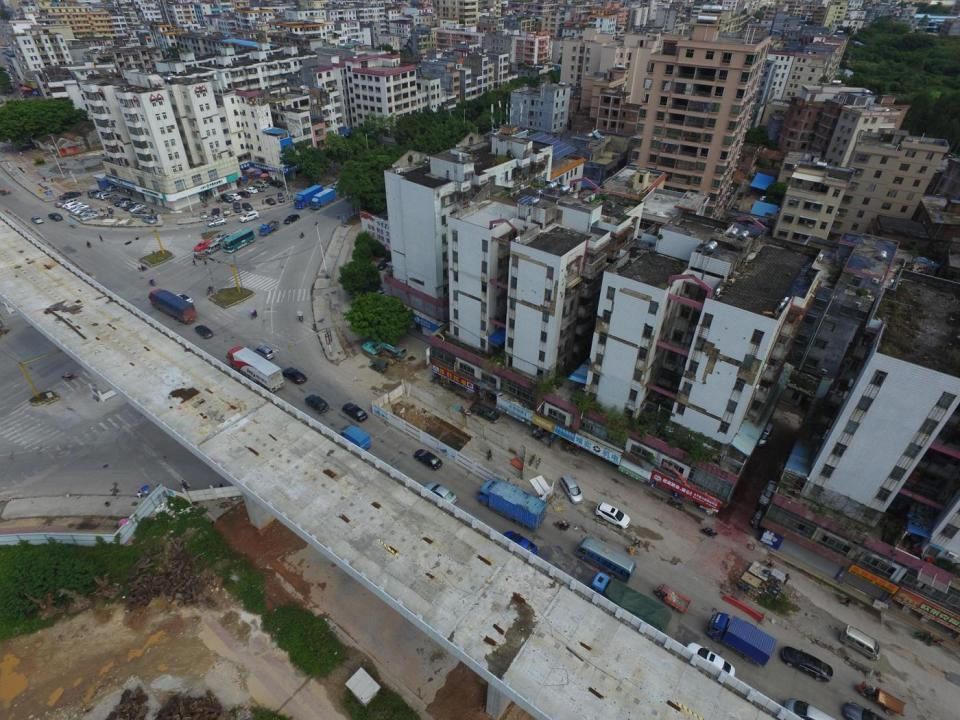bus: (576, 537, 636, 583)
car: (781, 645, 832, 681), (686, 643, 735, 678), (783, 697, 848, 720), (844, 701, 906, 720), (595, 501, 630, 528), (503, 530, 537, 557), (422, 483, 456, 507), (414, 448, 442, 470), (470, 403, 500, 423), (760, 481, 780, 508), (754, 422, 774, 445), (343, 404, 368, 422), (751, 504, 769, 528), (283, 366, 305, 385), (305, 394, 327, 412), (194, 325, 214, 339), (175, 293, 193, 308), (207, 216, 226, 228), (240, 211, 259, 222), (192, 241, 210, 252), (377, 258, 394, 269), (129, 203, 147, 213), (284, 213, 300, 224), (80, 212, 98, 221), (114, 197, 130, 207), (212, 233, 228, 242), (132, 211, 152, 218), (65, 202, 82, 210), (62, 198, 78, 206), (94, 190, 108, 199), (100, 192, 115, 200), (47, 212, 62, 220), (75, 204, 89, 212), (83, 211, 99, 218), (120, 201, 136, 208), (232, 202, 242, 213), (74, 208, 92, 214), (124, 204, 141, 210), (241, 202, 252, 211), (228, 193, 242, 200), (142, 217, 156, 224), (221, 194, 233, 202), (31, 216, 43, 224), (237, 190, 250, 197), (244, 187, 257, 194), (55, 201, 70, 207), (265, 198, 276, 206), (222, 205, 230, 215), (212, 209, 220, 218), (278, 192, 284, 202), (200, 211, 206, 219)
truck: (588, 572, 671, 637), (706, 612, 778, 666), (476, 478, 546, 530), (226, 347, 283, 392), (148, 289, 198, 323), (652, 584, 692, 613), (338, 426, 370, 452), (294, 184, 322, 210), (310, 188, 336, 210), (257, 220, 280, 236), (59, 191, 82, 201), (194, 252, 206, 259)
van: (839, 626, 881, 660), (559, 474, 581, 506), (253, 345, 274, 359), (205, 241, 221, 255), (62, 198, 79, 209), (391, 346, 406, 358), (87, 189, 103, 198), (331, 180, 342, 190), (257, 180, 268, 188), (252, 184, 264, 191)
